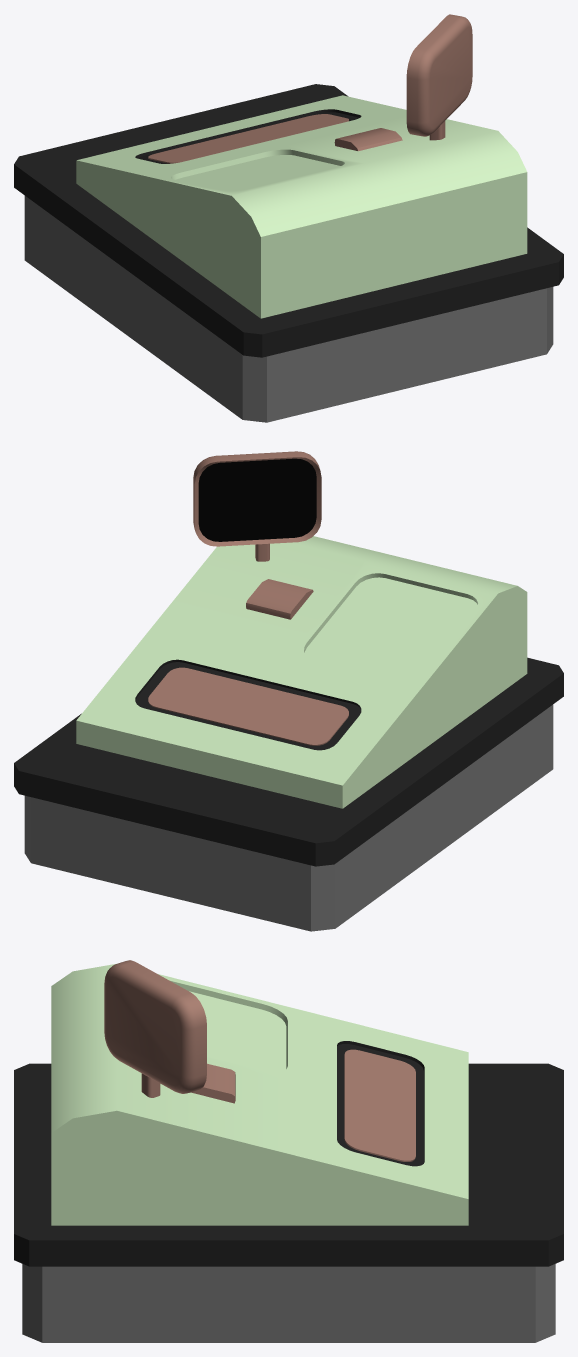
File: cashRegister.fbx
3 views of the same model, one above another, from view 1: azimuth 30°, elevation 25°; view 2: azimuth 150°, elevation 25°; view 3: azimuth 270°, elevation 25° (orthographic). The views are drawn at different scales.
Parts seen in each view (by area): view 1: Cube.003, Cube, Cube.002, Cube.008, Cube.004, Cube.010, Cube.005; view 2: Cube.003, Cube, Cube.002, Cube.009, Cube.004, Cube.010, Cube.008, Cube.005; view 3: Cube.003, Cube.002, Cube, Cube.008, Cube.004, Cube.010, Cube.005.
Part boxes in pixels (x1,y1,x2,y2): Cube.003: (76, 95, 527, 318); Cube: (24, 196, 553, 422); Cube.002: (14, 84, 563, 357); Cube.008: (406, 14, 472, 136); Cube.004: (148, 114, 348, 163); Cube.010: (135, 109, 361, 163); Cube.005: (334, 128, 402, 151); Cube.003: (76, 536, 527, 808); Cube: (24, 704, 553, 931); Cube.002: (14, 657, 563, 866); Cube.009: (198, 458, 316, 541); Cube.004: (148, 667, 348, 745); Cube.010: (135, 659, 361, 750); Cube.008: (193, 451, 321, 546); Cube.005: (246, 579, 313, 619); Cube.003: (51, 963, 468, 1225); Cube.002: (14, 1063, 563, 1266); Cube: (22, 1264, 555, 1342); Cube.008: (104, 960, 206, 1093); Cube.004: (344, 1049, 415, 1161); Cube.010: (337, 1041, 424, 1166); Cube.005: (191, 1063, 235, 1103).
Size of the model in its own units: 1443 by 1247 by 1897.
